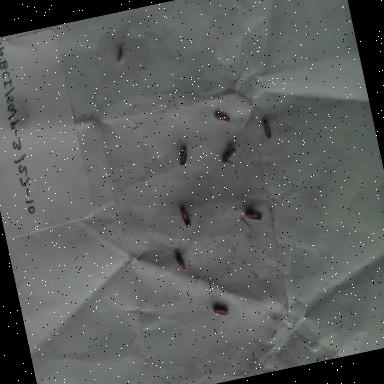pbw: (174, 140, 195, 168), (242, 201, 266, 225), (212, 104, 234, 128), (175, 202, 193, 230), (258, 116, 276, 144), (171, 246, 189, 273), (207, 300, 231, 318), (112, 41, 129, 65), (218, 147, 237, 166)
